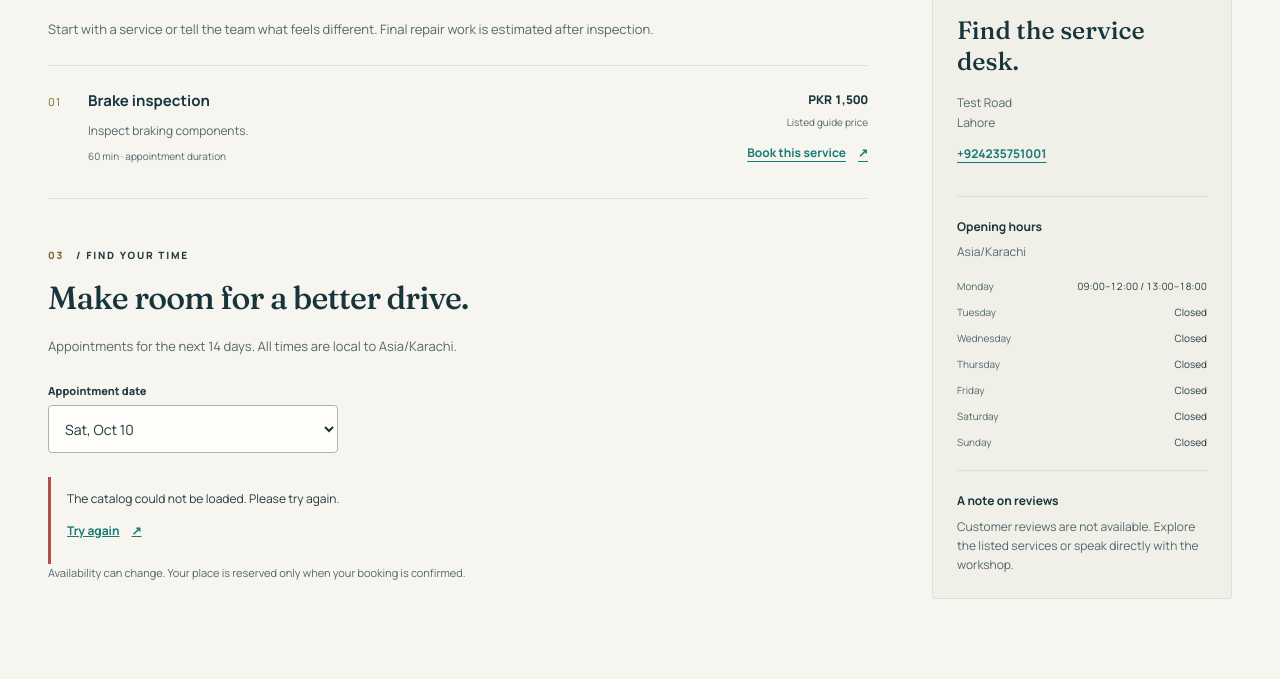
keeps profile readable when slots fail and supports retry without showing server diagnostics
(page scrolled)
Click the button "Try again ↗". click: (104, 530)
box: [67,508,142,552]
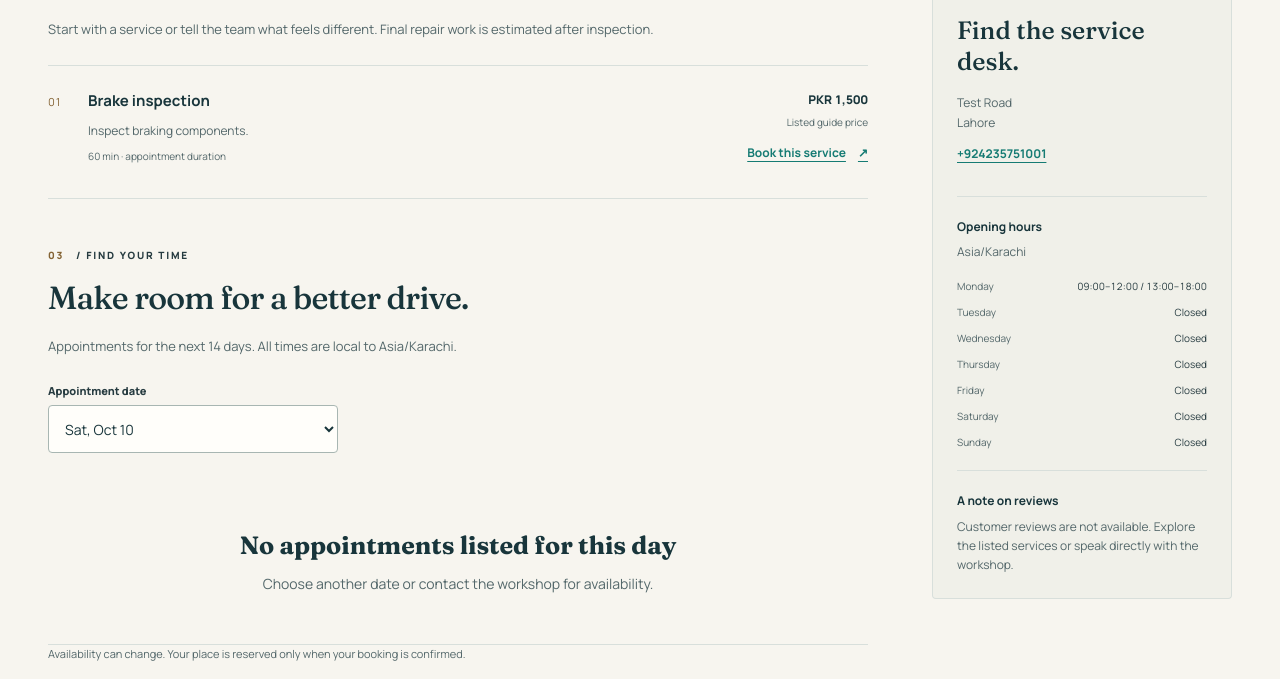
Now the heading "No appointments listed for this day" is shown, box [240,530,676,560]
